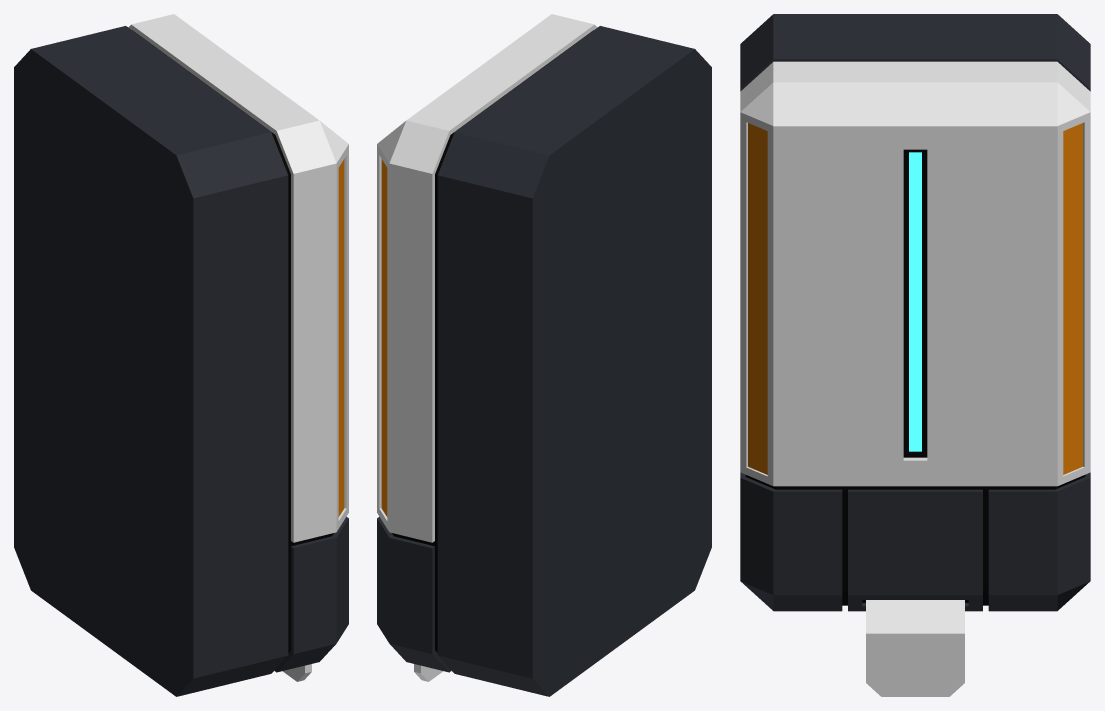
Rendered from SM_Soap_Dispenser.fbx.
3 views of the same model, side by side, from view 1: azimuth 30°, elevation 25°; view 2: azimuth 150°, elevation 25°; view 3: azimuth 270°, elevation 25° (orthographic). The views are drawn at different scales.
Parts seen in each view (by area): view 1: SM_Soap_Dispenser; view 2: SM_Soap_Dispenser; view 3: SM_Soap_Dispenser.
Boxes of the visible parts, bbox=[...] form: SM_Soap_Dispenser: bbox=[14, 14, 348, 696]; SM_Soap_Dispenser: bbox=[377, 14, 711, 696]; SM_Soap_Dispenser: bbox=[740, 14, 1090, 696].
Bounding box in the file's own units: 10.61 × 33.79 × 18.
